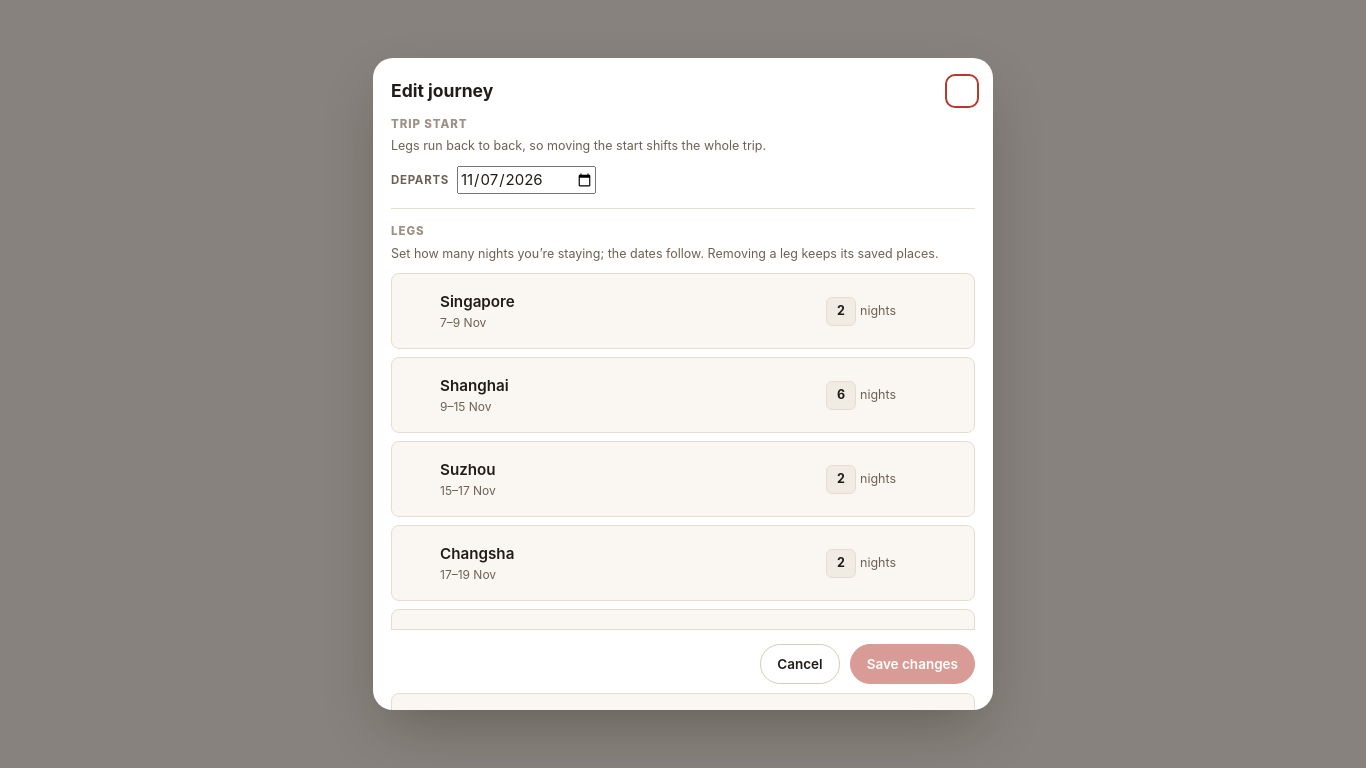
Test: leg list › shifts the whole trip when the start date changes
In the date field labelled "Departs": (526, 180) [457,166,596,194], type "2026-11-10"
(page scrolled)
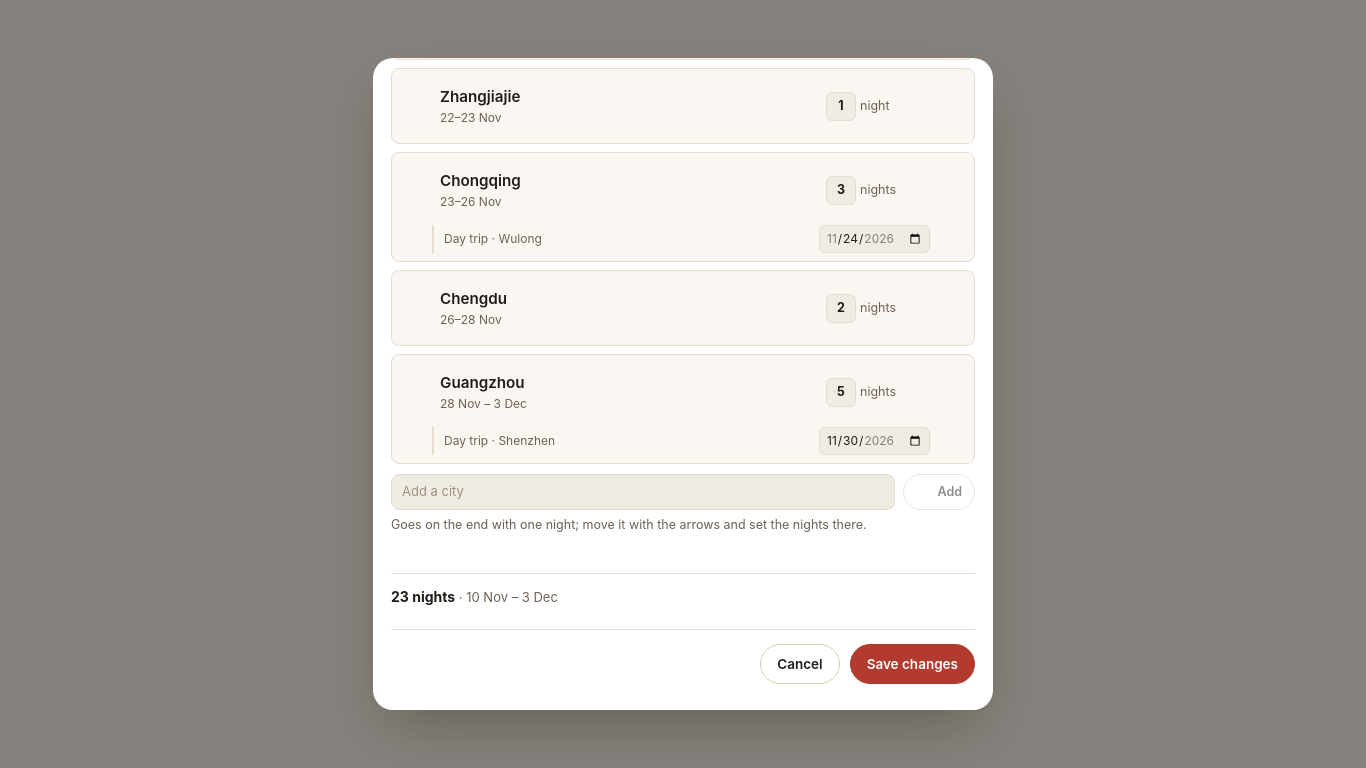
Check: the text "23 nights" is shown, box [391,588,455,605]
